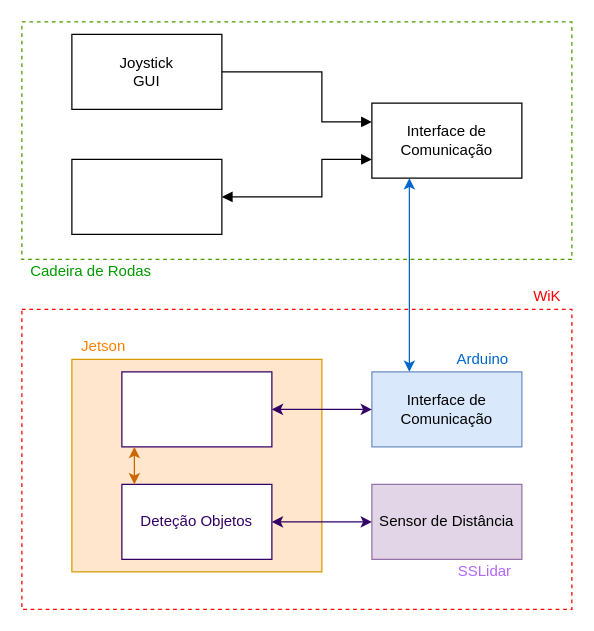
This 594x631 diagram has some shape labels left out. Each missing label, with the box of its shape:
Coordenação de Movimento: (121, 371, 272, 447)
Motor: (71, 158, 222, 234)
